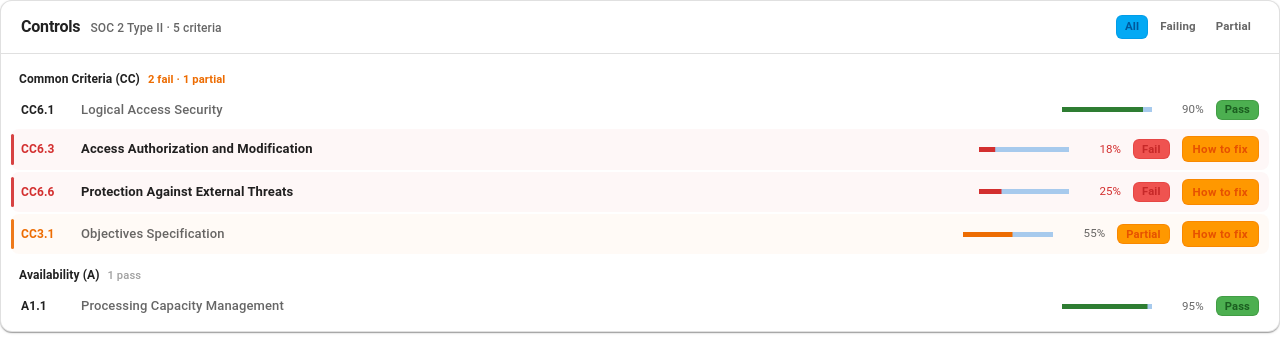
Test case: ControlHeatmap › filter chip Partial shows only partial controls
What coordinates should you click on to do the following:
click the button "Partial"
I would click on:
 (1233, 26)
Its box is [1216, 19, 1251, 33].
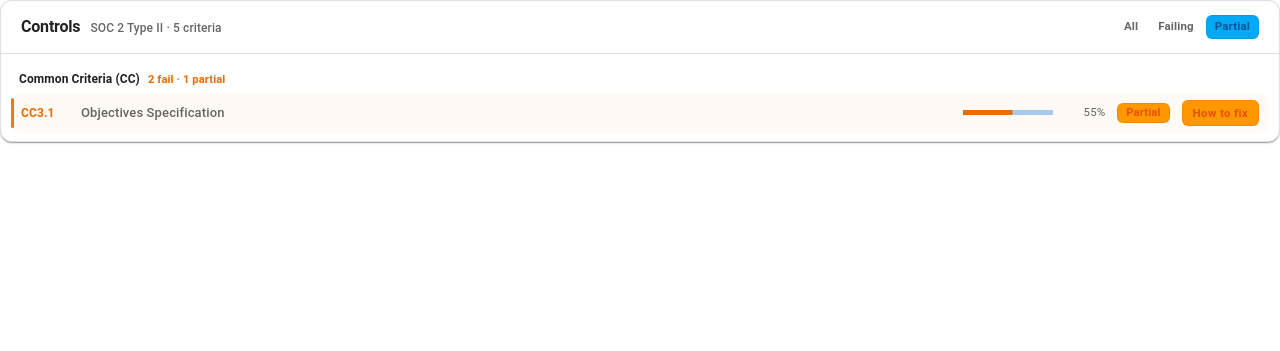
Expected: the text "CC3.1" is shown, [21, 106, 54, 120]
Result: the text "CC6.1" is gone
Result: the text "CC6.3" is gone
